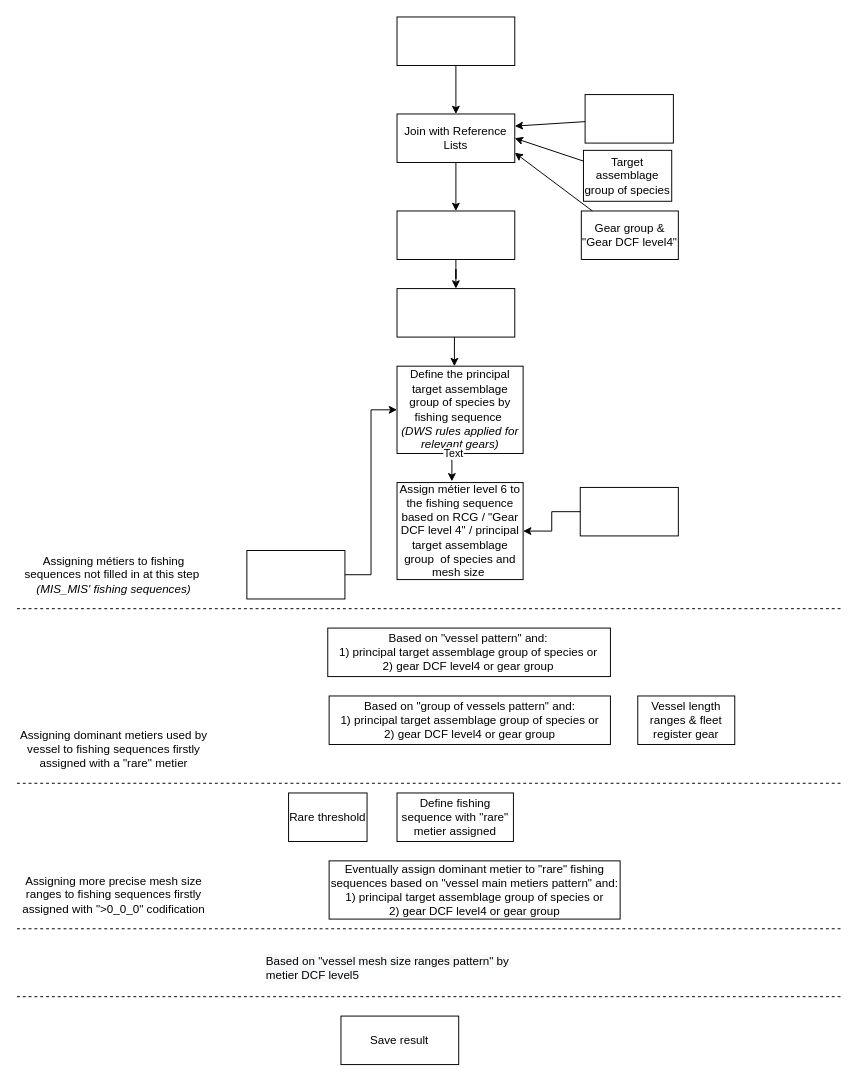
This 859x1082 diagram has some shape labels left out. Here are the shapes that lost their labels. From the top down, the box of each, then its label:
(396, 16, 515, 65): Read Input Data
(584, 94, 673, 143): RCG
(396, 210, 515, 259): Define Fishing Sequence
(396, 288, 515, 337): Select Measure (KG|EUR)
(579, 486, 678, 536): Métier reference list by RCG
(246, 550, 345, 599): Possible national corrections
